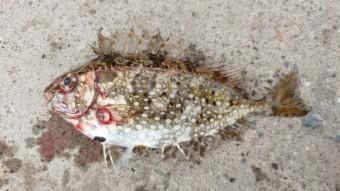fish: (44, 29, 309, 156)
